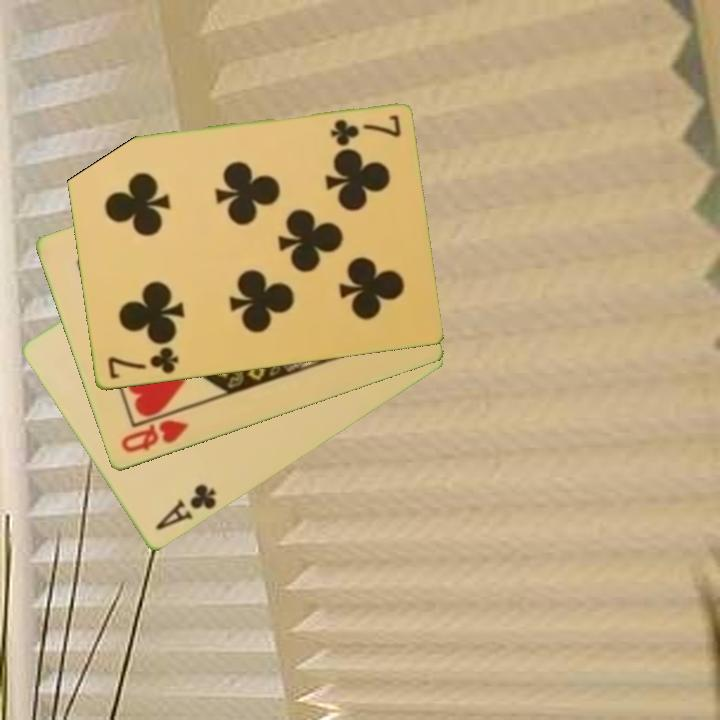7c: (103, 344, 181, 382), (326, 112, 404, 147)
Ac: (152, 480, 219, 534)
Qh: (117, 416, 191, 456)
